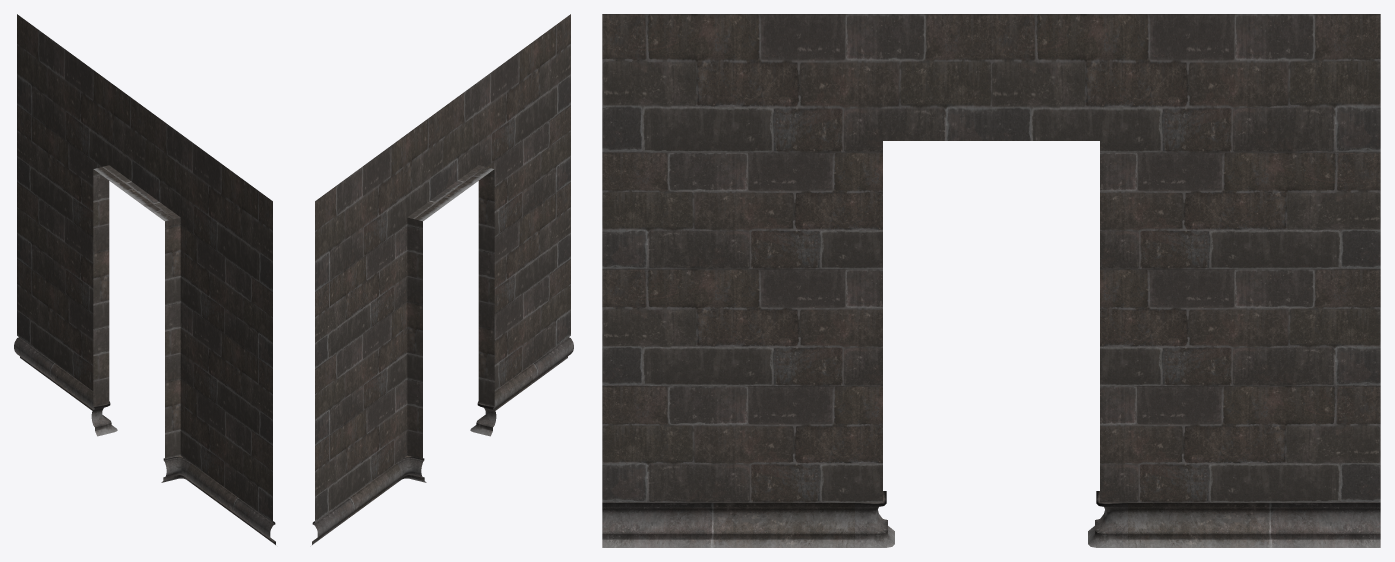
File: Psychiatric_Ward_Basement_Lower_Wall_4m_Door_B.glb
3 views of the same model, side by side, from view 1: azimuth 30°, elevation 25°; view 2: azimuth 150°, elevation 25°; view 3: azimuth 270°, elevation 25° (orthographic). The views are drawn at different scales.
Visible parts, largest first — view 1: Psychiatric_Ward_Basement_Lower_Wall_4m_Door_B; view 2: Psychiatric_Ward_Basement_Lower_Wall_4m_Door_B; view 3: Psychiatric_Ward_Basement_Lower_Wall_4m_Door_B.
Part boxes in pixels (x1,y1,x2,y2): Psychiatric_Ward_Basement_Lower_Wall_4m_Door_B: (14, 14, 275, 544); Psychiatric_Ward_Basement_Lower_Wall_4m_Door_B: (312, 14, 573, 544); Psychiatric_Ward_Basement_Lower_Wall_4m_Door_B: (602, 14, 1380, 547).
Bounding box in the file's own units: 0.2049 × 3 × 4.
1 material, 1 textured.
